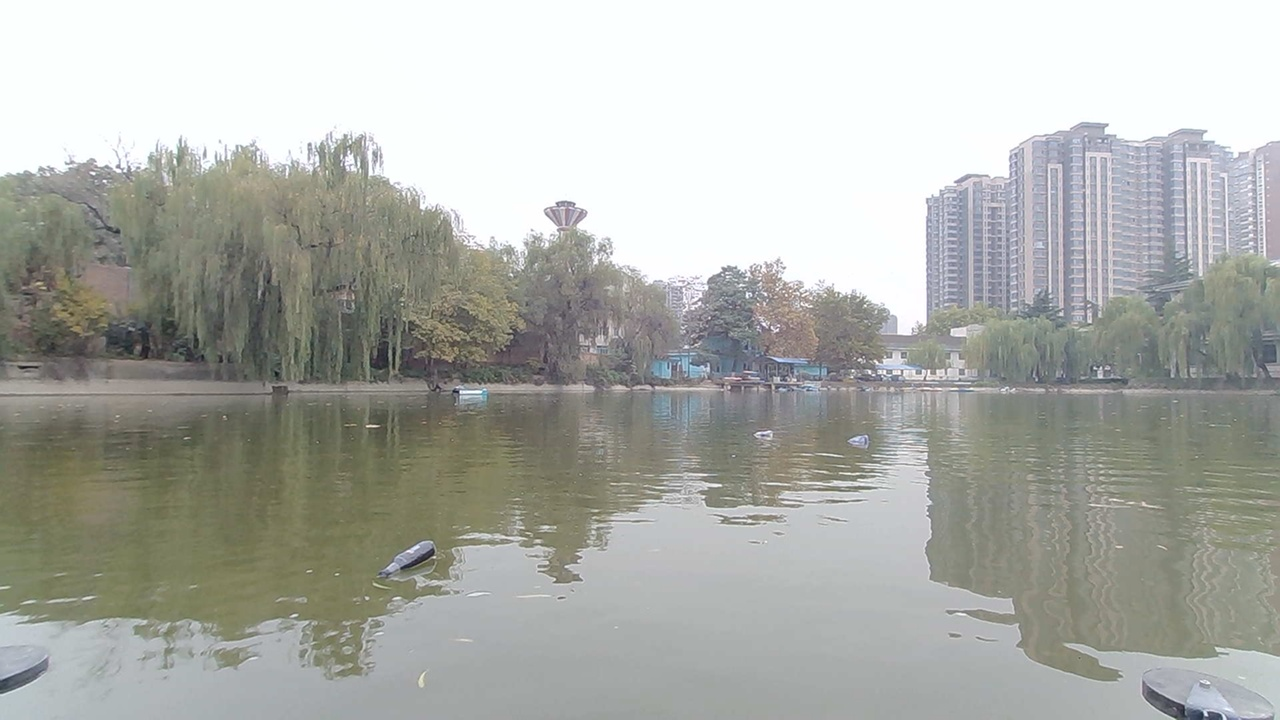bottle: (376, 537, 455, 587), (744, 418, 783, 444), (843, 433, 876, 450)
